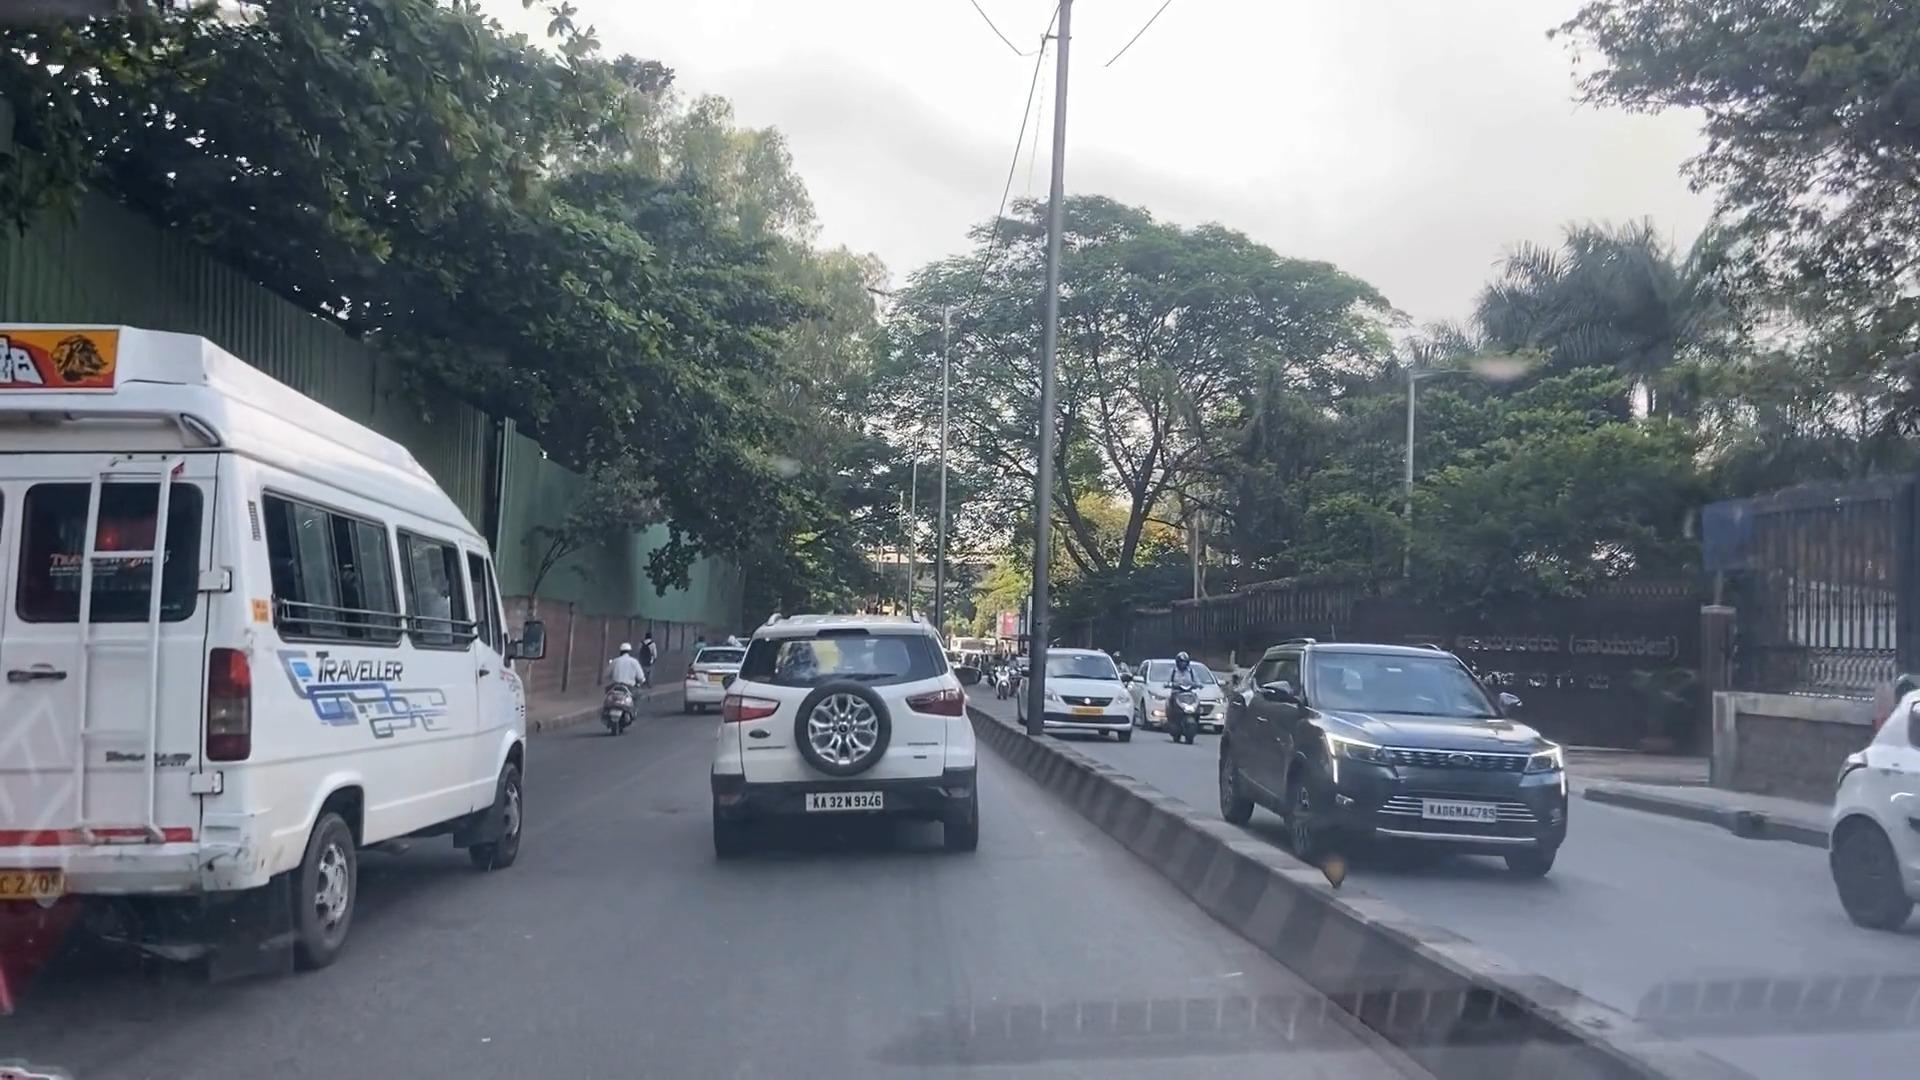HMV: (25, 328, 531, 932)
LMV: (700, 669, 963, 848)
